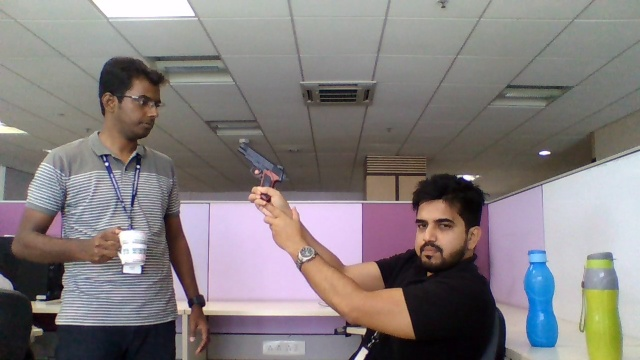gun: (235, 140, 288, 186)
